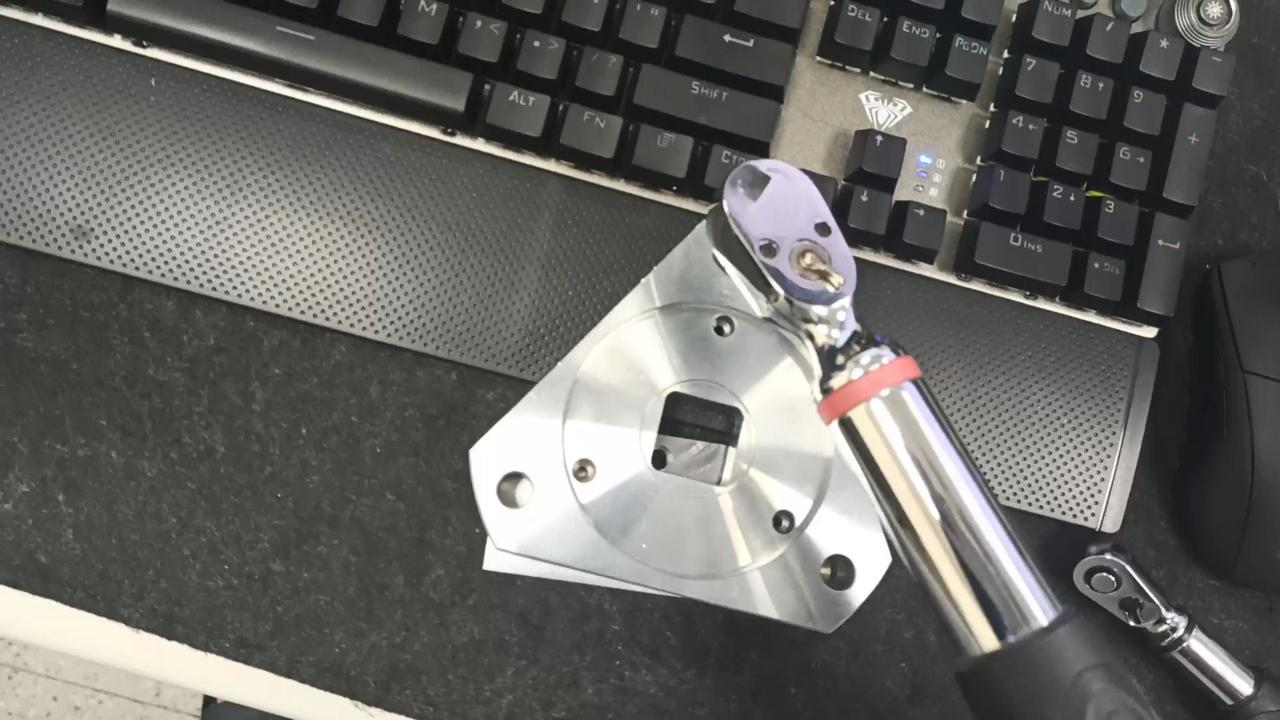Tool: (714, 151, 894, 396), (1071, 534, 1181, 648)
hole: (817, 547, 858, 597), (497, 467, 532, 515), (569, 454, 601, 491), (771, 501, 799, 539), (712, 315, 732, 346)
